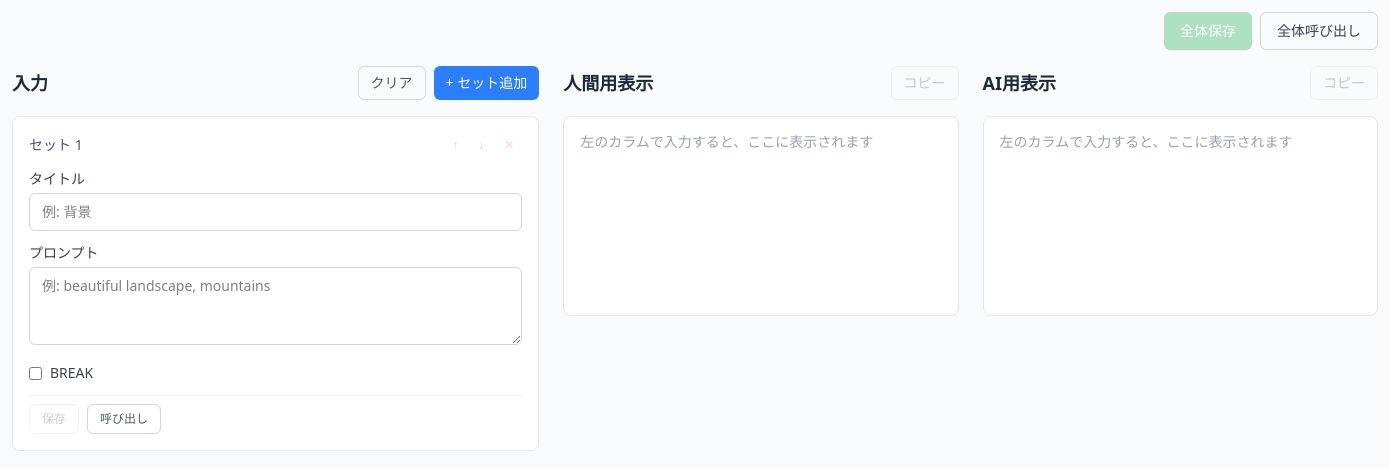
Test: PromptGenerator › BREAKチェックで中央・右カラムにBREAKが表示される
In the text box labelled "プロンプト": x=276, y=306 top-left (29, 267), bottom-right (522, 345), type "test"
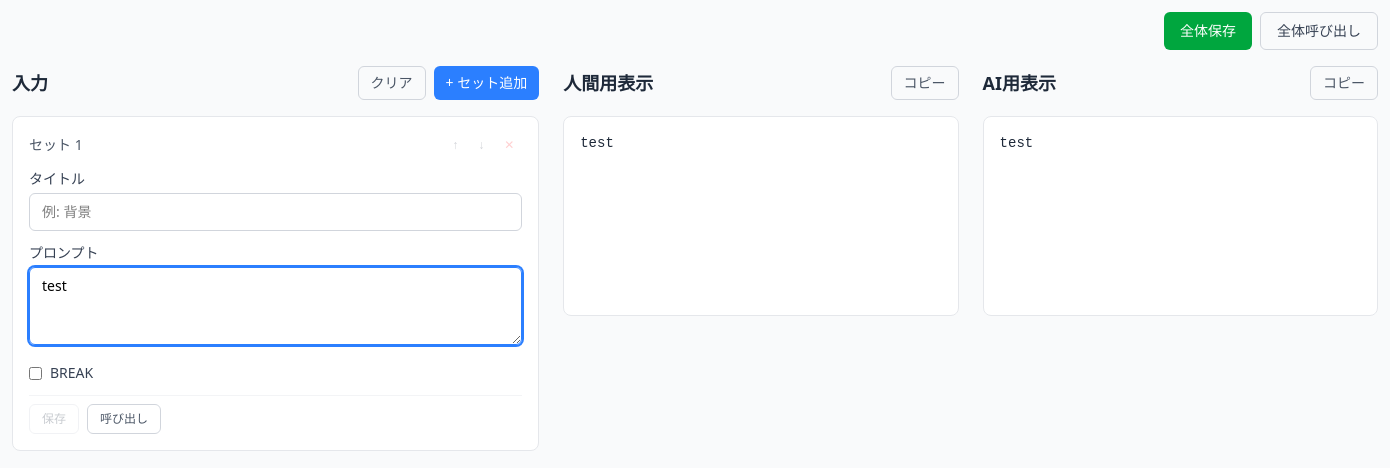
Click the checkbox labelled "BREAK": x=36, y=373 top-left (29, 366), bottom-right (42, 380)
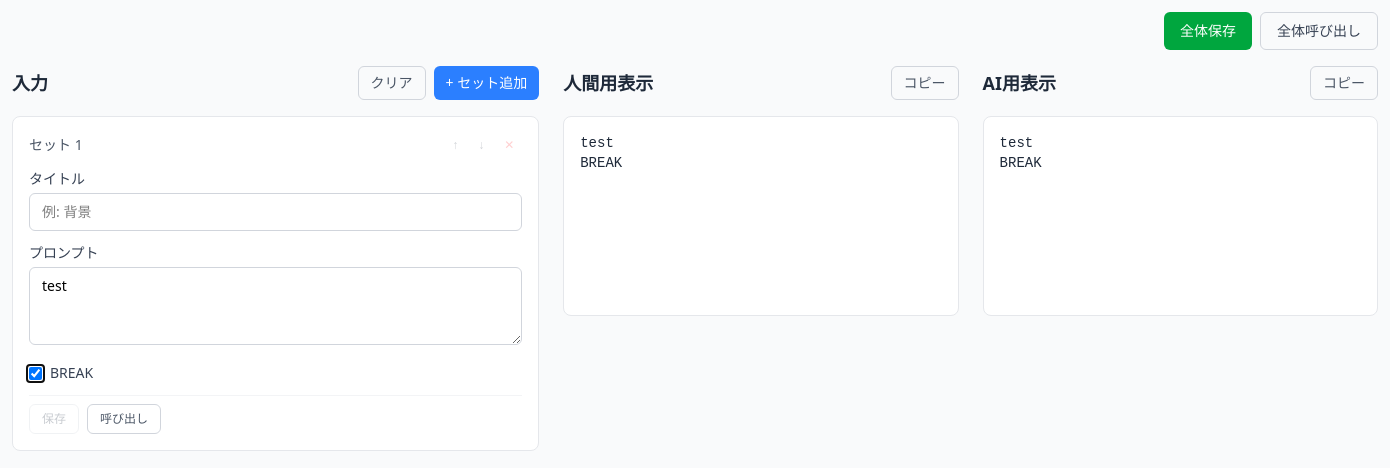
Expected: the text with test id "human-readable-output" shows "BREAK", top-left (580, 135), bottom-right (622, 171)
Expected: the text with test id "ai-ready-output" shows "BREAK", top-left (1000, 135), bottom-right (1042, 171)
